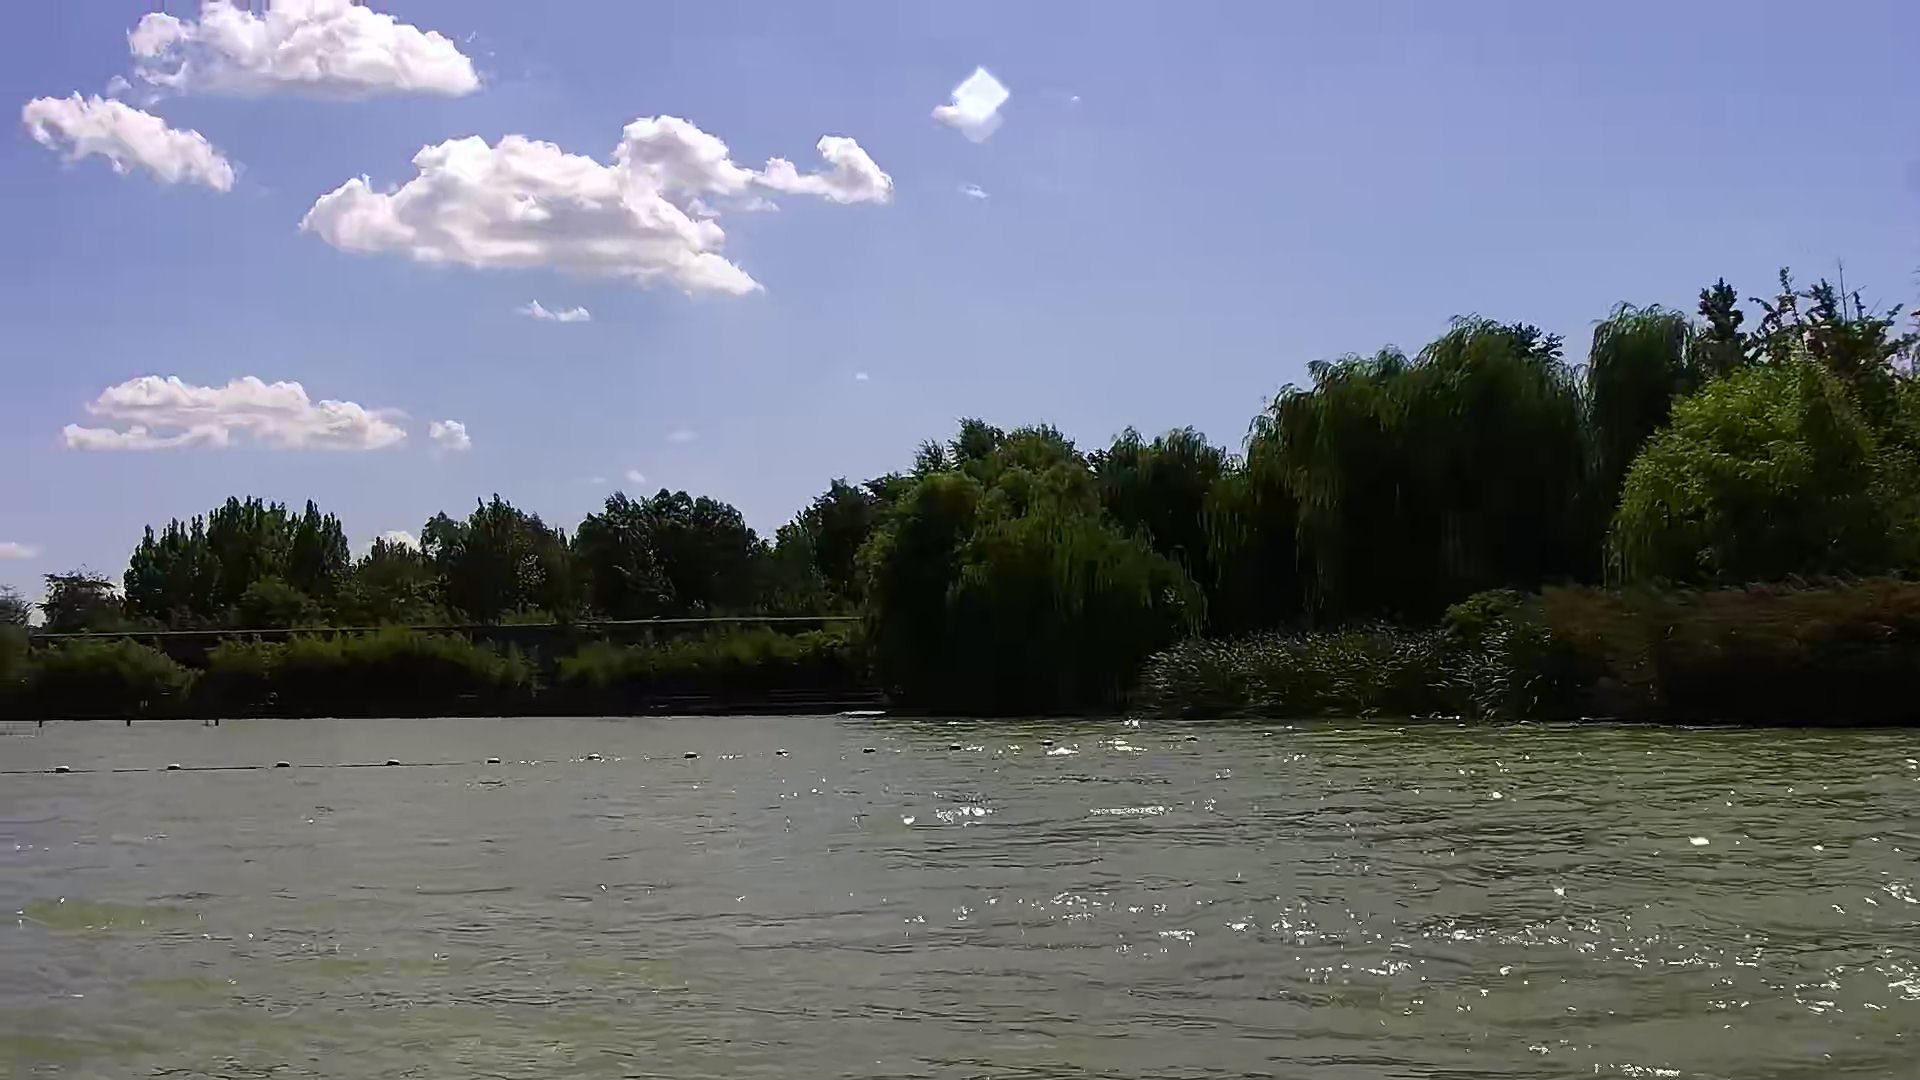ball: (377, 752, 406, 774), (161, 754, 185, 778), (47, 758, 73, 781), (678, 746, 707, 764)
